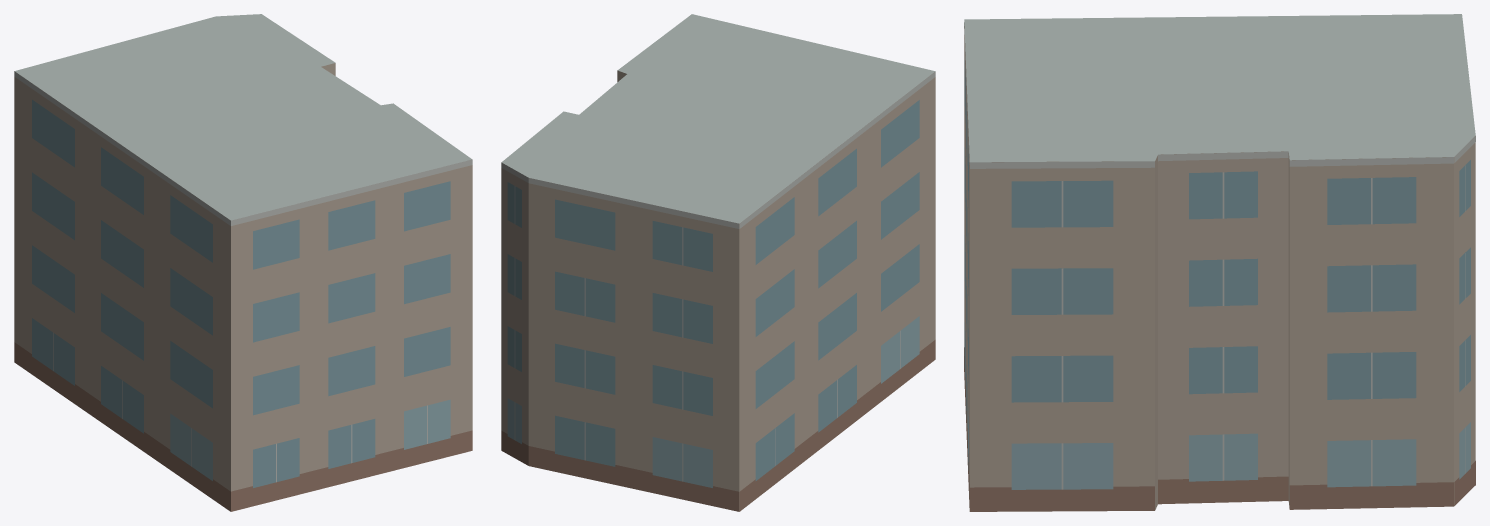
The model's file is survey-upis-32907784.glb.
3 views of the same model, side by side, from view 1: azimuth 30°, elevation 25°; view 2: azimuth 150°, elevation 25°; view 3: azimuth 270°, elevation 25° (orthographic). The views are drawn at different scales.
Visible parts, largest first — view 1: survey-upis-32907784.tmp; view 2: survey-upis-32907784.tmp; view 3: survey-upis-32907784.tmp.
Boxes of the visible parts, <box> form: survey-upis-32907784.tmp: <box>14,14,472,511</box>; survey-upis-32907784.tmp: <box>501,14,935,511</box>; survey-upis-32907784.tmp: <box>964,14,1475,511</box>.
Size of the model in its own units: 11.65 by 12.8 by 16.98.
